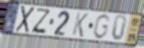0: (110, 15, 128, 43)
2: (52, 9, 71, 38)
G: (92, 14, 111, 41)
K: (71, 11, 90, 39)
X: (14, 5, 36, 35)
Z: (30, 7, 52, 35)
